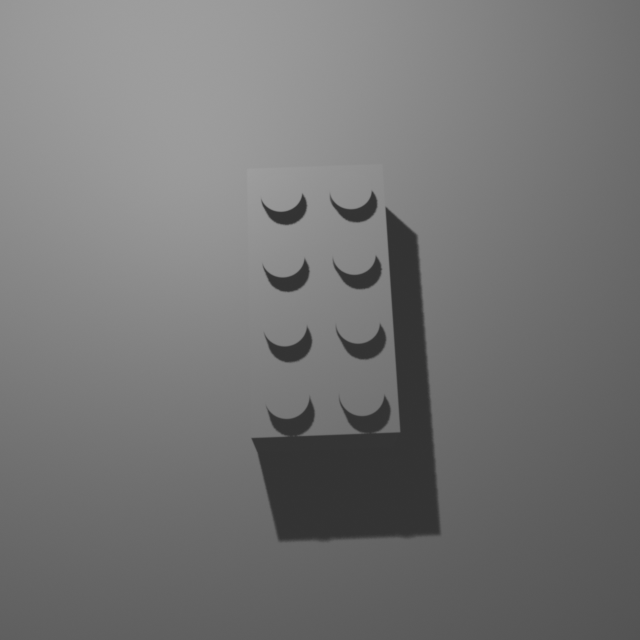lego_2x4: (246, 158, 402, 452)
